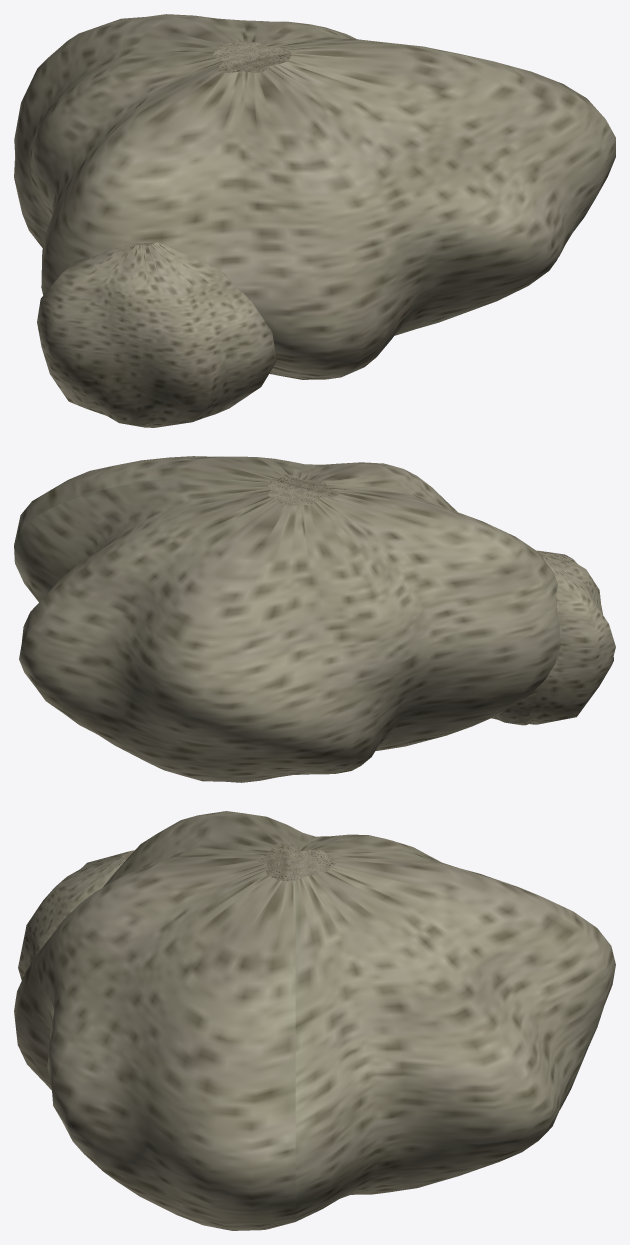
The model's file is coral_reef_rock.glb.
3 renders of one model, top to bottom at view 1: azimuth 30°, elevation 25°; view 2: azimuth 150°, elevation 25°; view 3: azimuth 270°, elevation 25°, orthographic. The views are drawn at different scales.
Parts seen in each view (by area): view 1: coral_reef_rock; view 2: coral_reef_rock; view 3: coral_reef_rock.
Part boxes in pixels (<box>): coral_reef_rock: <box>14,14,615,427</box>; coral_reef_rock: <box>14,456,615,782</box>; coral_reef_rock: <box>14,811,615,1230</box>.
Size of the model in its own units: 2.8 by 1.25 by 2.3.
Materials: 1 (1 with a texture image).
